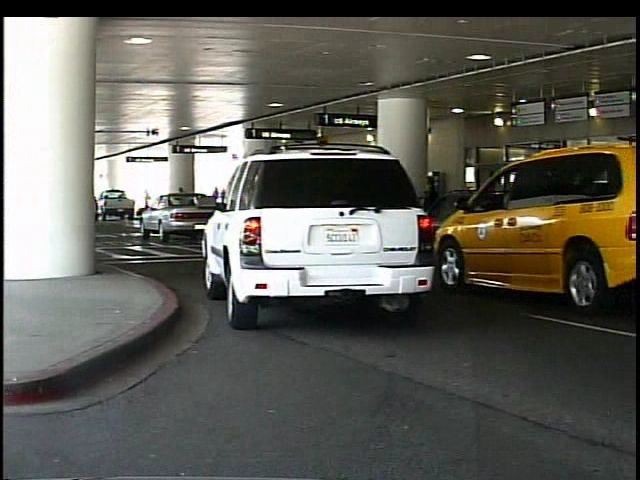person: (536, 171, 566, 261)
